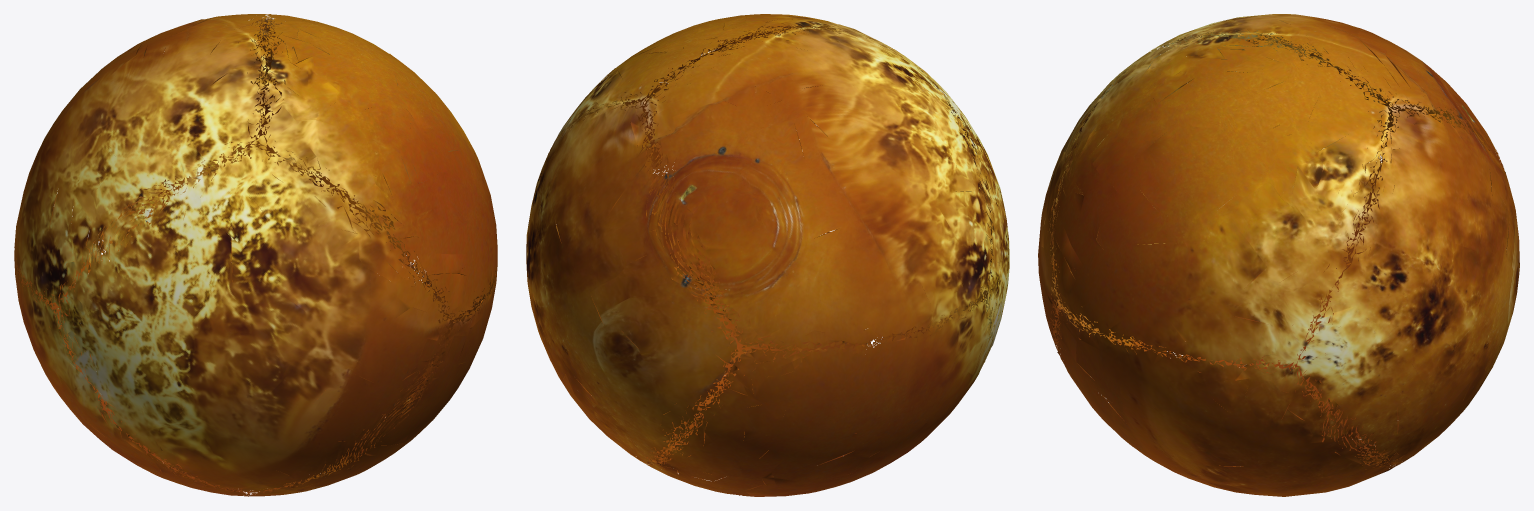
Rendered from Venus.glb.
3 views of the same model, side by side, from view 1: azimuth 30°, elevation 25°; view 2: azimuth 150°, elevation 25°; view 3: azimuth 270°, elevation 25° (orthographic).
Visible parts, largest first — view 1: Mesh_0.003; view 2: Mesh_0.003; view 3: Mesh_0.003.
Boxes of the visible parts, x1,y1,x2,y2 form: Mesh_0.003: (14,14,497,496); Mesh_0.003: (526,14,1009,496); Mesh_0.003: (1038,14,1519,496).
Size of the model in its own units: 2.01 by 2 by 2.
Materials: 1 (1 with a texture image).
